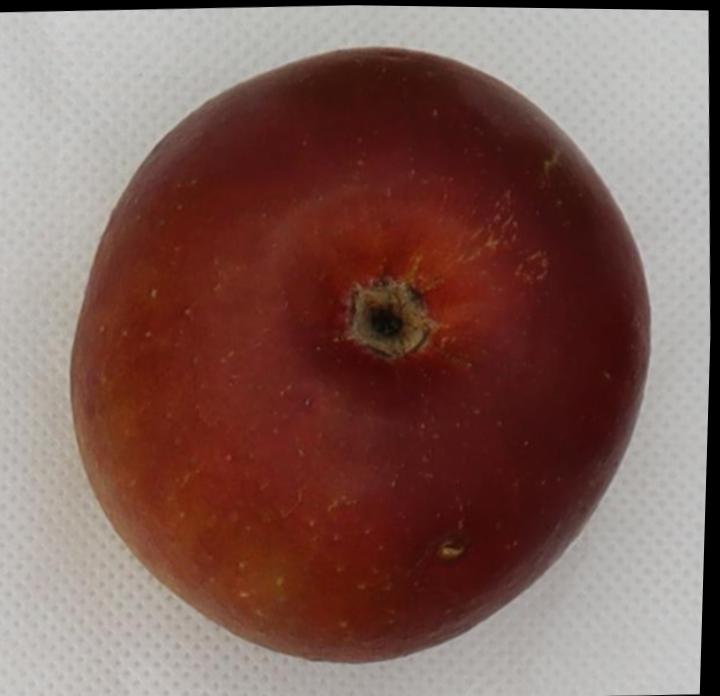apple: (72, 50, 650, 662)
surface_damage: (436, 539, 465, 560)
